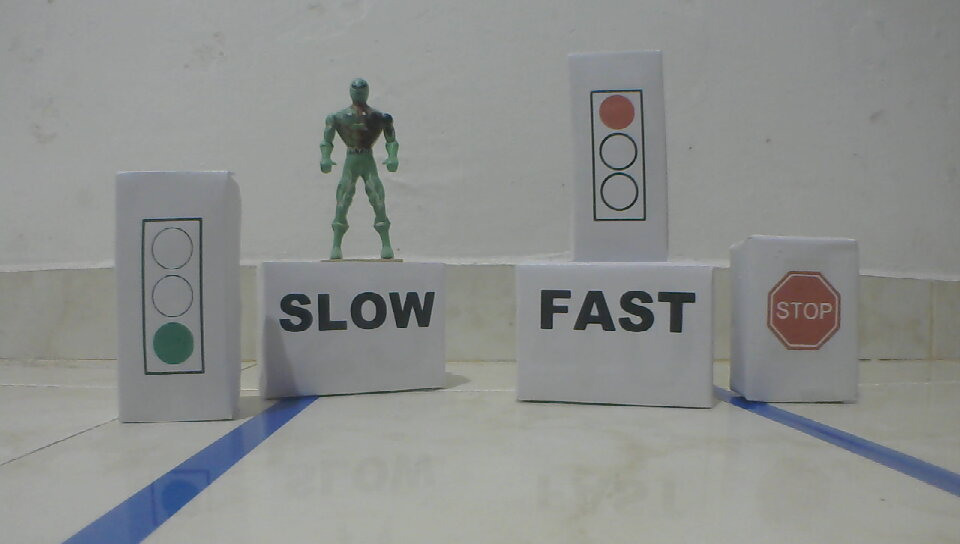Fast: (536, 287, 696, 336)
Green Traffic Light: (140, 215, 210, 381)
Person: (317, 76, 403, 262)
Red Traffic Light: (588, 86, 650, 225)
Slow: (277, 290, 440, 334)
Stop Sign: (765, 271, 843, 351)
